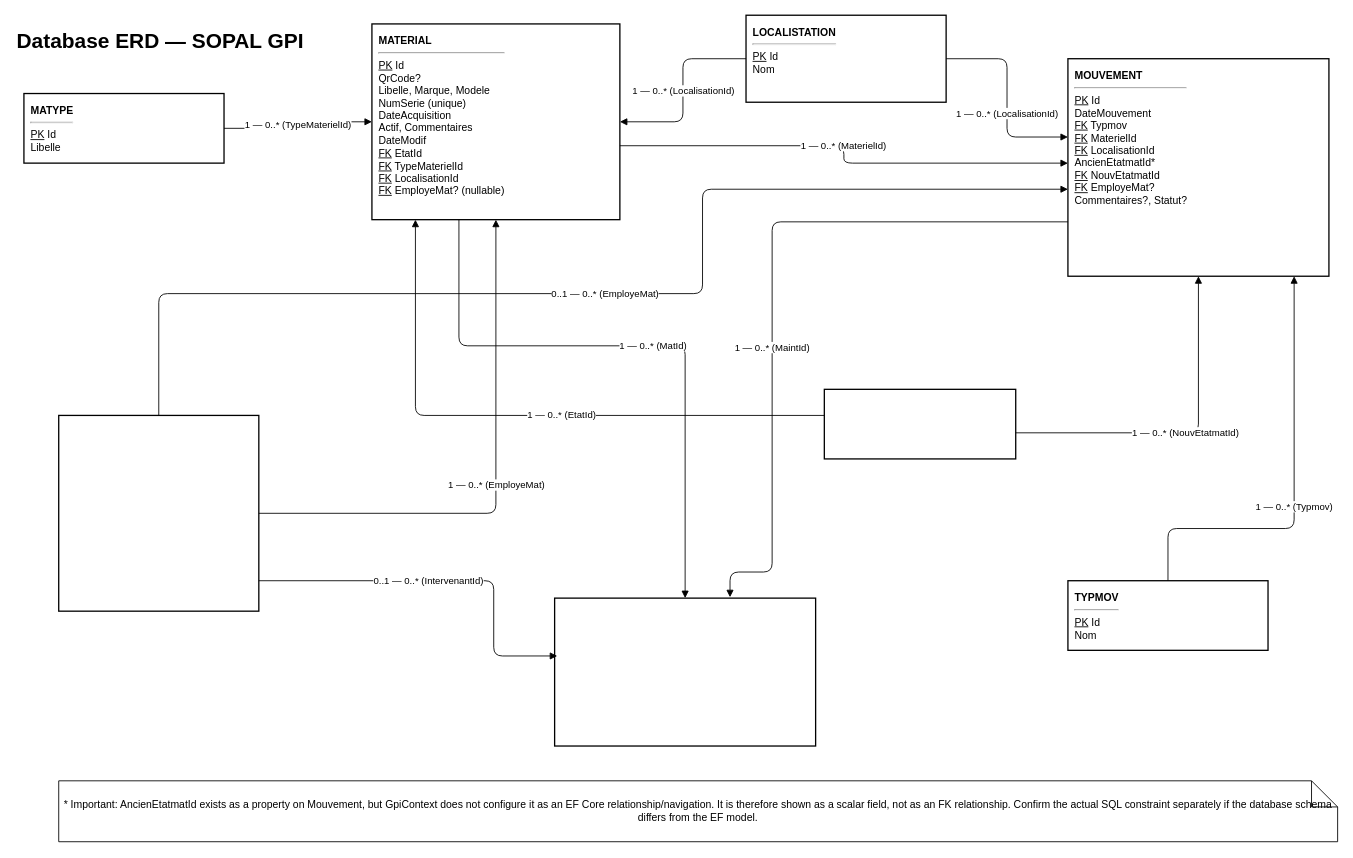
The diagram is 1353 pixels wide and 858 high, and some of its shapes have lost their labels. Here are the shapes that lost their labels. From the top down, the centre of each, then its label:
At (x=919, y=423): "ETATMAT PK Id Libelle".
At (x=158, y=512): "EMPLOYE PK Matricule Nom Prenom Email Service? Poste Actif? Role?".
At (x=685, y=671): "INTERVENTION PK Id Commentaires? Date FK MatId FK IntervenantId? FK MaintId".
